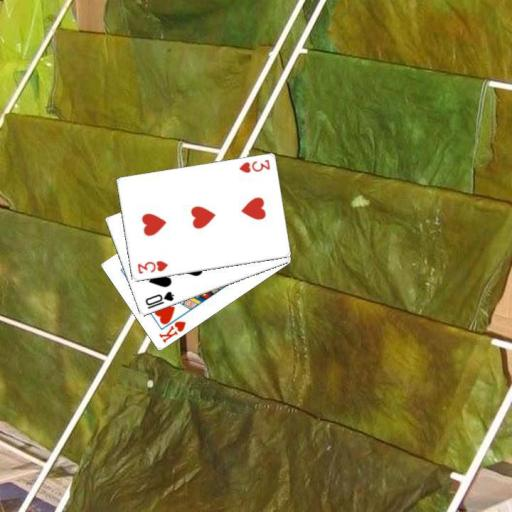10S: (142, 288, 176, 311)
3H: (235, 156, 271, 175), (135, 258, 170, 276)
KH: (156, 318, 187, 345)
